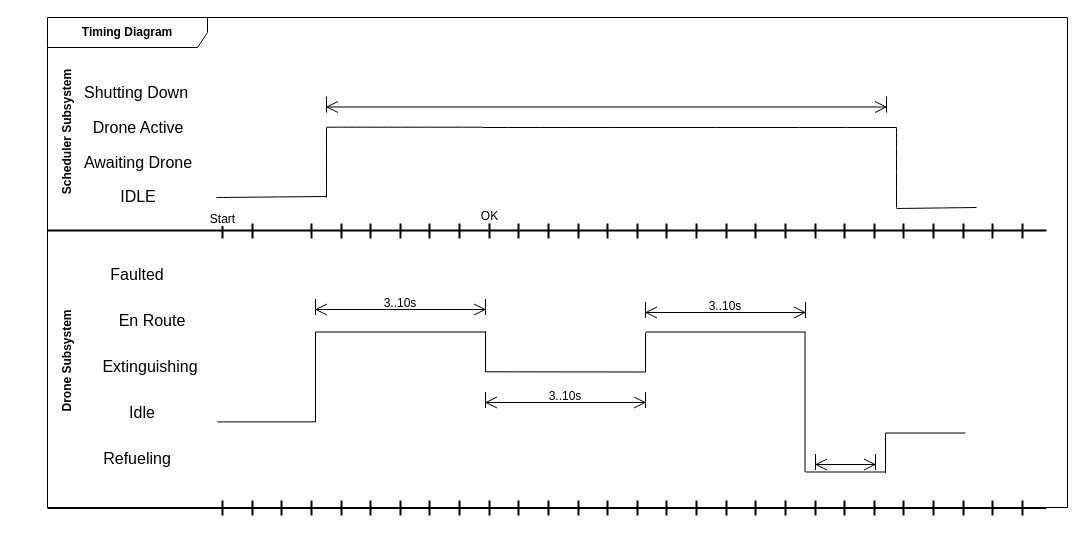
The diagram is 1085 pixels wide and 535 high, and some of its shapes have lost their labels. Here are the shapes that lost their labels. From the top down, the centre of each, then its label:
At point (606, 104): "10..30s".
At point (845, 461): "2s".
